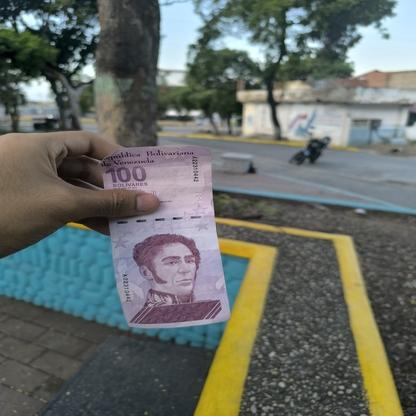one_hundred-front-vef: (95, 144, 231, 329)
